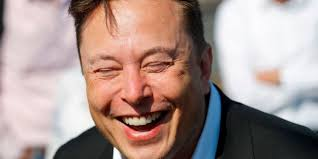No-Glasses: (78, 49, 186, 86)
